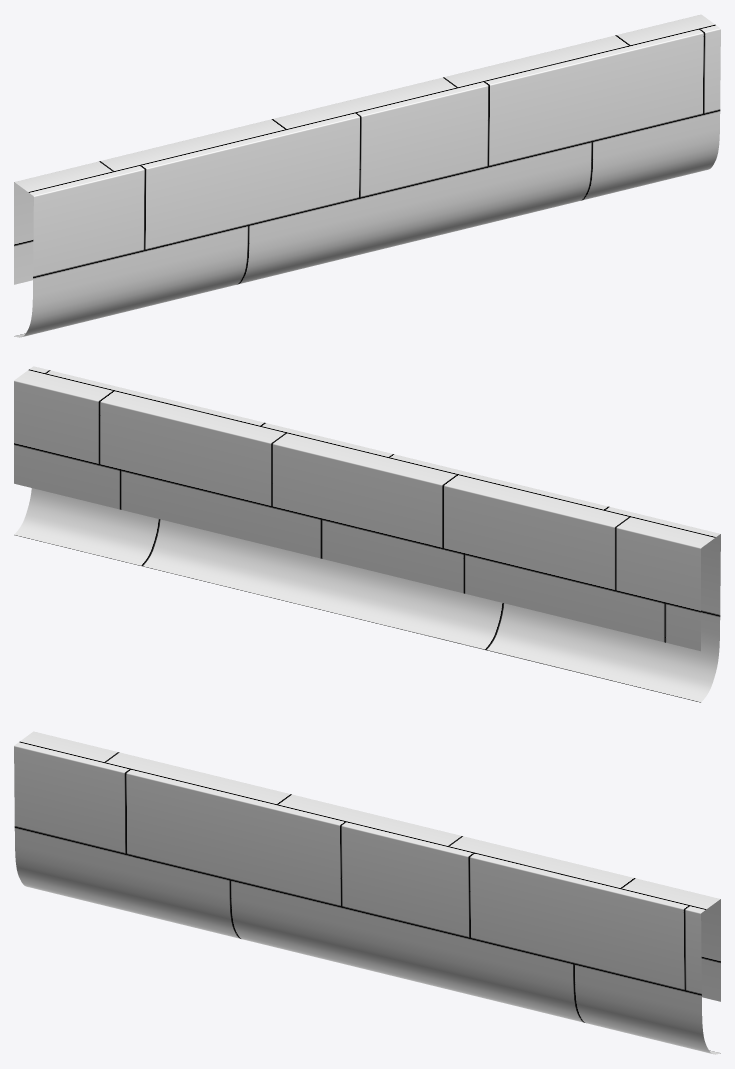
Rendered from Parapet01_700cm.FBX.
The picture shows the model from 3 angles, top to bottom: view 1: azimuth 30°, elevation 25°; view 2: azimuth 150°, elevation 25°; view 3: azimuth 330°, elevation 25°; orthographic projection.
Parts seen in each view (by area): view 1: Parapet01_700cm; view 2: Parapet01_700cm; view 3: Parapet01_700cm.
Part boxes in pixels (x1,y1,x2,y2): Parapet01_700cm: (14, 14, 720, 337); Parapet01_700cm: (14, 366, 720, 702); Parapet01_700cm: (14, 731, 720, 1054).
Bounding box in the file's own units: 700 × 150 × 35.13.
